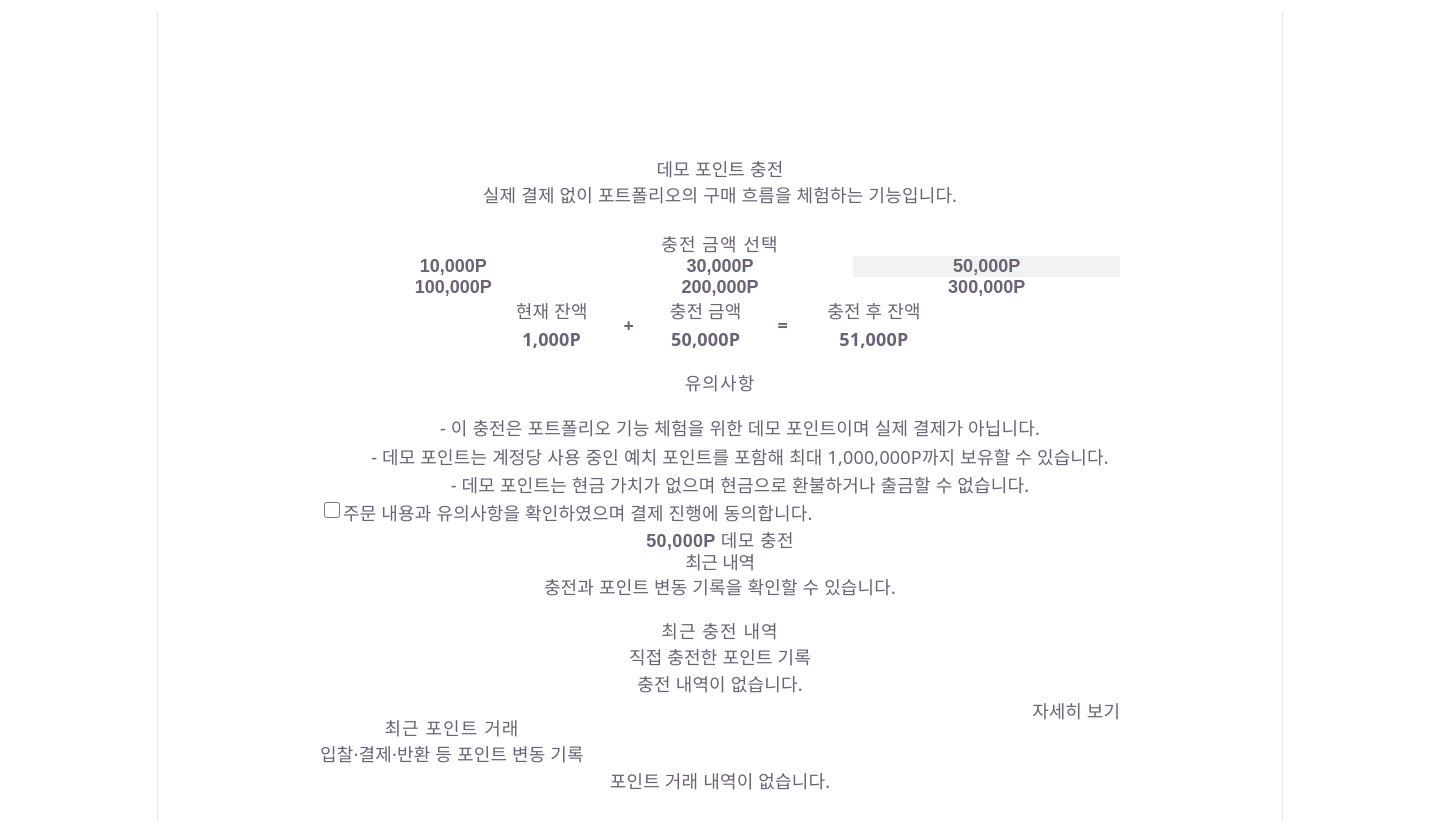
Scenario: 데모 포인트 충전 화면 › 충전 성공 후 최신 잔액을 조회하고 완료 화면을 표시한다
The width and height of the screenshot is (1440, 822).
Expected: the button "50,000P 데모 충전" is enabled, [320, 526, 1120, 552]
Click the checkbox: (332, 510) [324, 502, 340, 518]
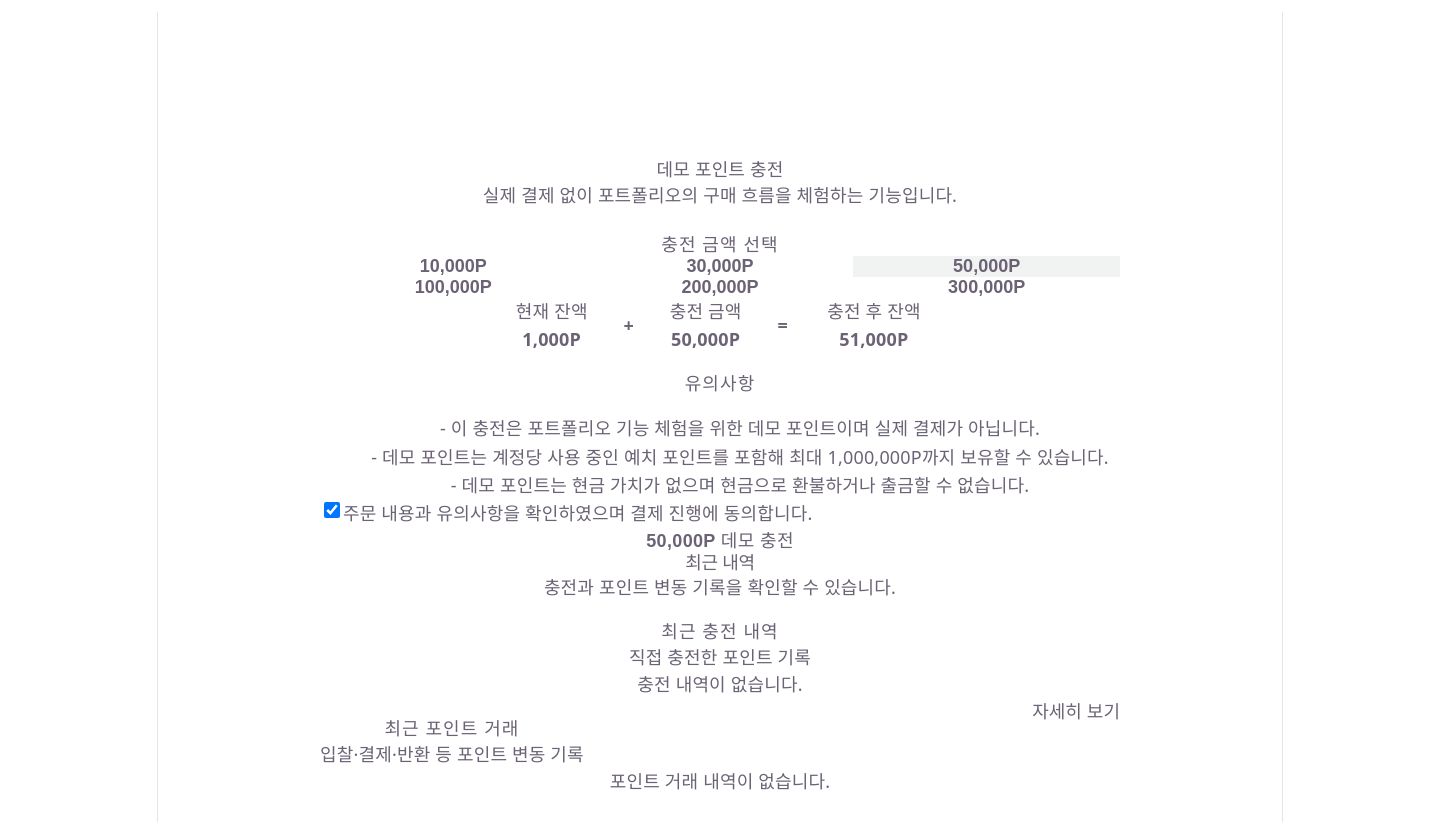
Click the button "50,000P 데모 충전": (720, 539) [320, 526, 1120, 552]
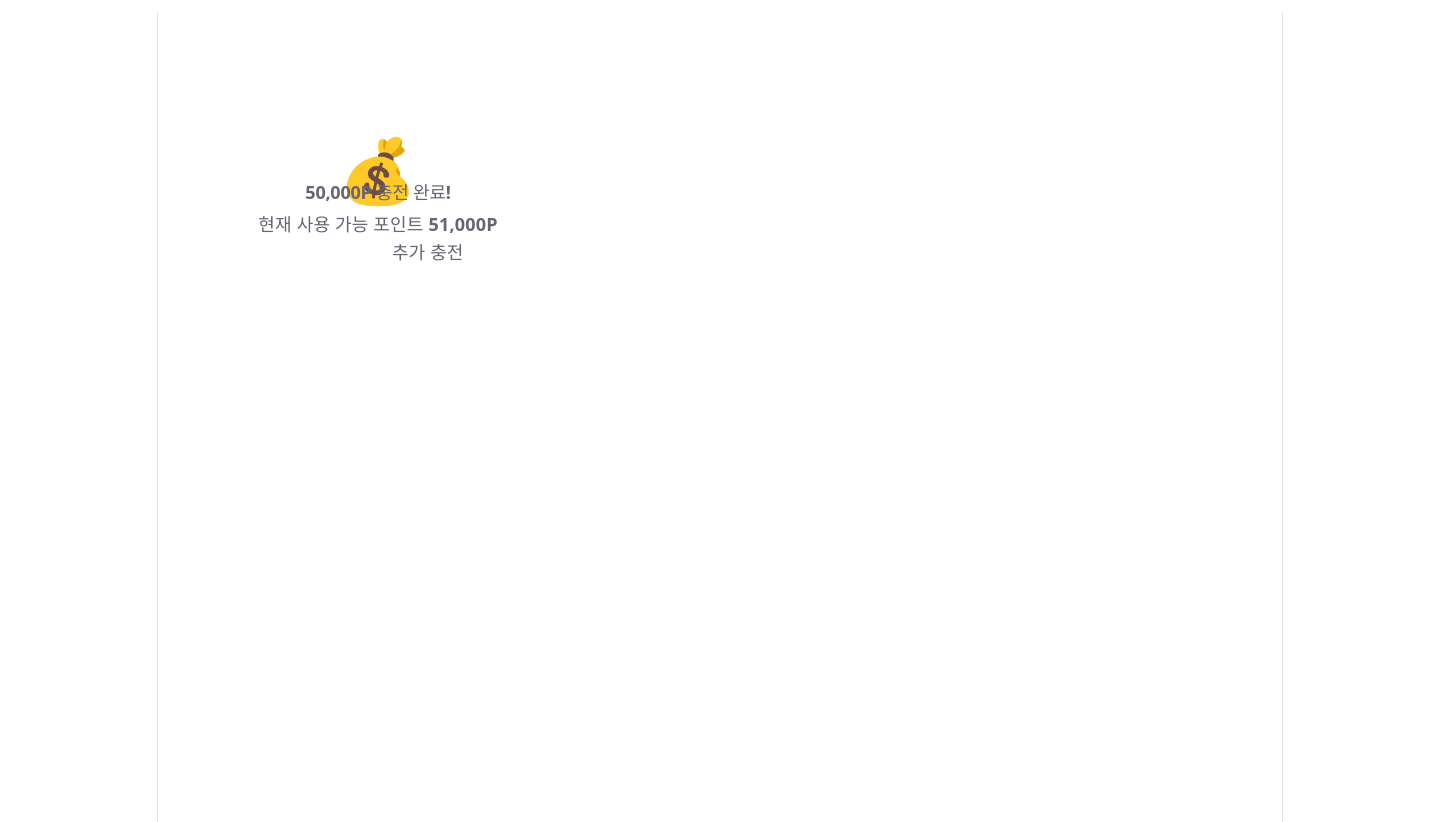
Expected: the text "51,000P" is shown, [428, 212, 498, 236]
Expected: the heading "50,000P 충전 완료!" is shown, [305, 182, 451, 203]
